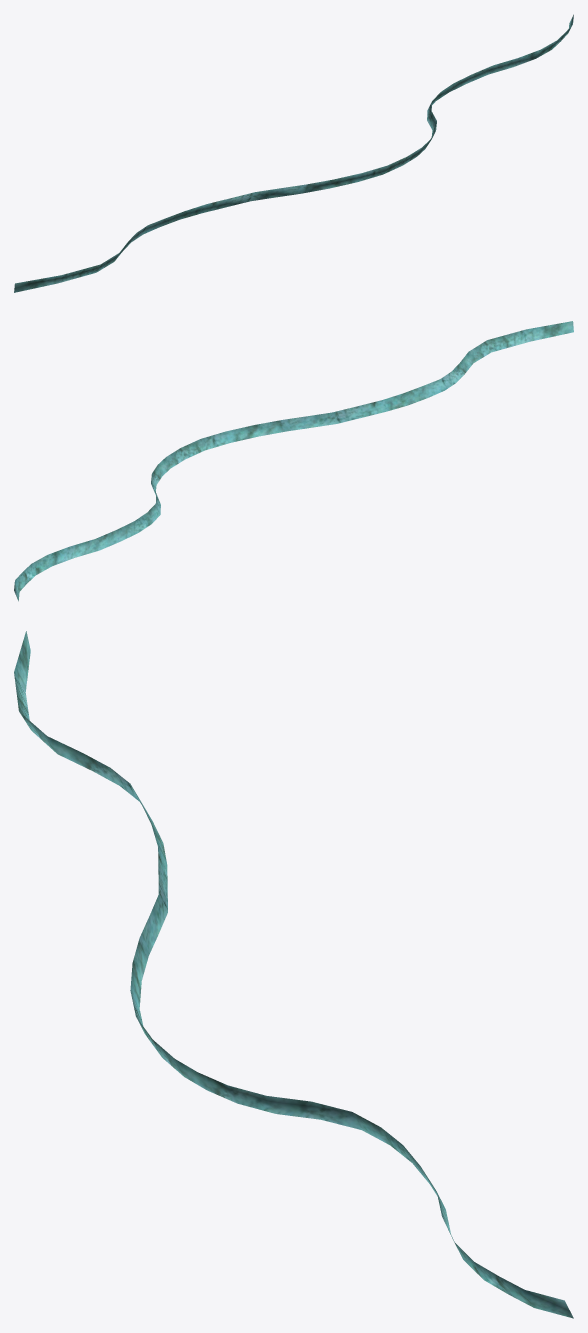
File: EKH_GROTTO_PS_GR_OBJECT13.fbx
The picture shows the model from 3 angles, top to bottom: view 1: azimuth 30°, elevation 25°; view 2: azimuth 210°, elevation 25°; view 3: azimuth 270°, elevation 25°; orthographic projection. The views are drawn at different scales.
Visible parts, largest first — view 1: EKH_GROTTO_PS_GR_OBJECT13; view 2: EKH_GROTTO_PS_GR_OBJECT13; view 3: EKH_GROTTO_PS_GR_OBJECT13.
Part boxes in pixels (bbox=[...]): EKH_GROTTO_PS_GR_OBJECT13: bbox=[14, 14, 573, 292]; EKH_GROTTO_PS_GR_OBJECT13: bbox=[14, 321, 573, 601]; EKH_GROTTO_PS_GR_OBJECT13: bbox=[14, 631, 573, 1318].
Size of the model in its own units: 425559 by 6045 by 150279.
1 material, 1 textured.
